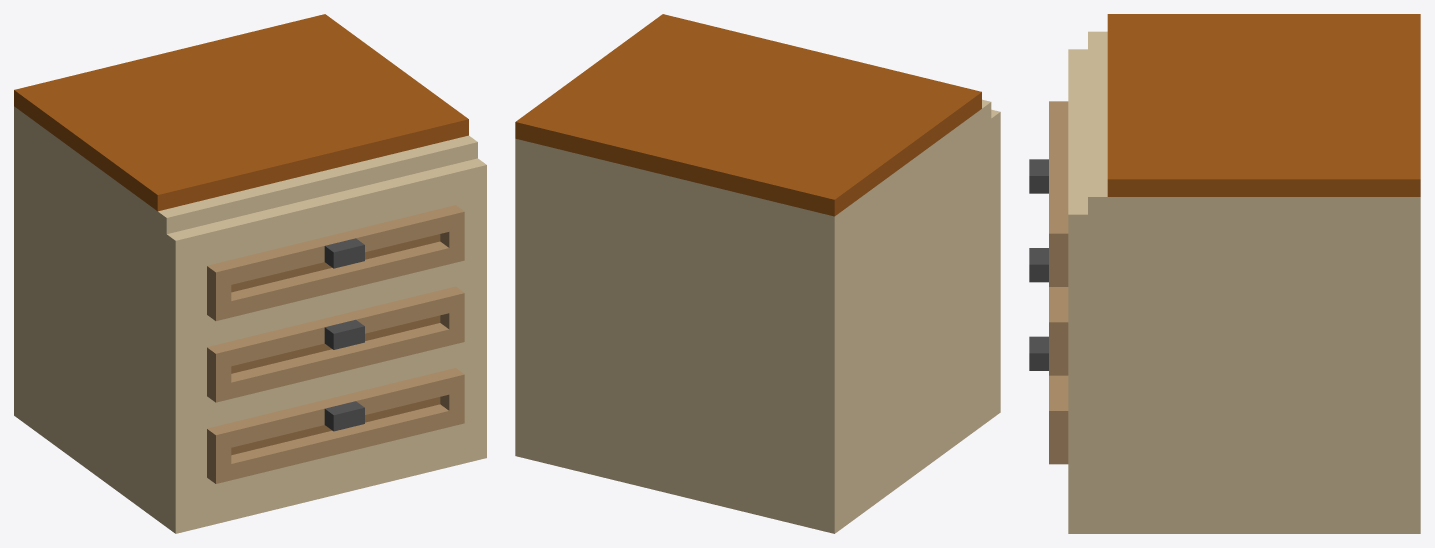
Rendered from Kitchen_TableV2.obj.
3 views of the same model, side by side, from view 1: azimuth 30°, elevation 25°; view 2: azimuth 150°, elevation 25°; view 3: azimuth 270°, elevation 25° (orthographic). The views are drawn at different scales.
Bounding box in the file's own units: 2 × 2 × 2.
1 material, 1 textured.
